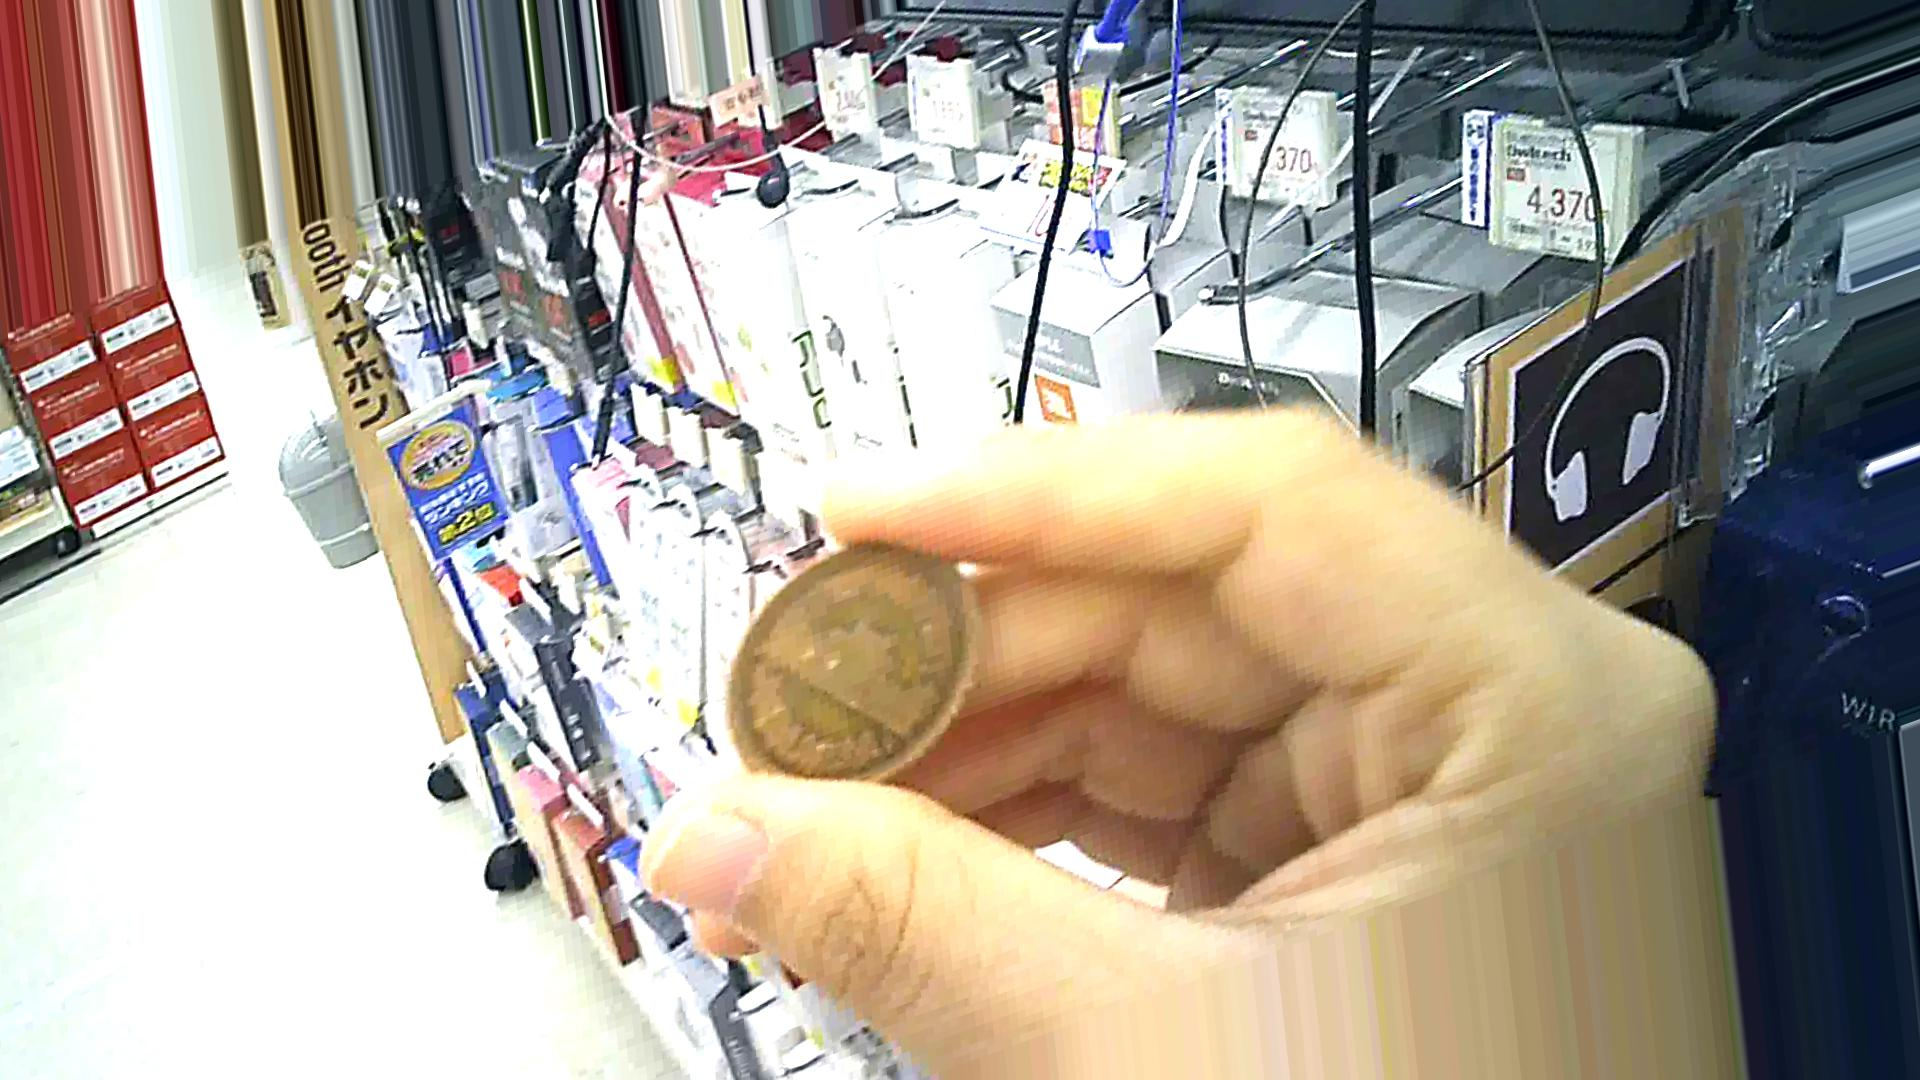10 Yen: (715, 533, 964, 829)
